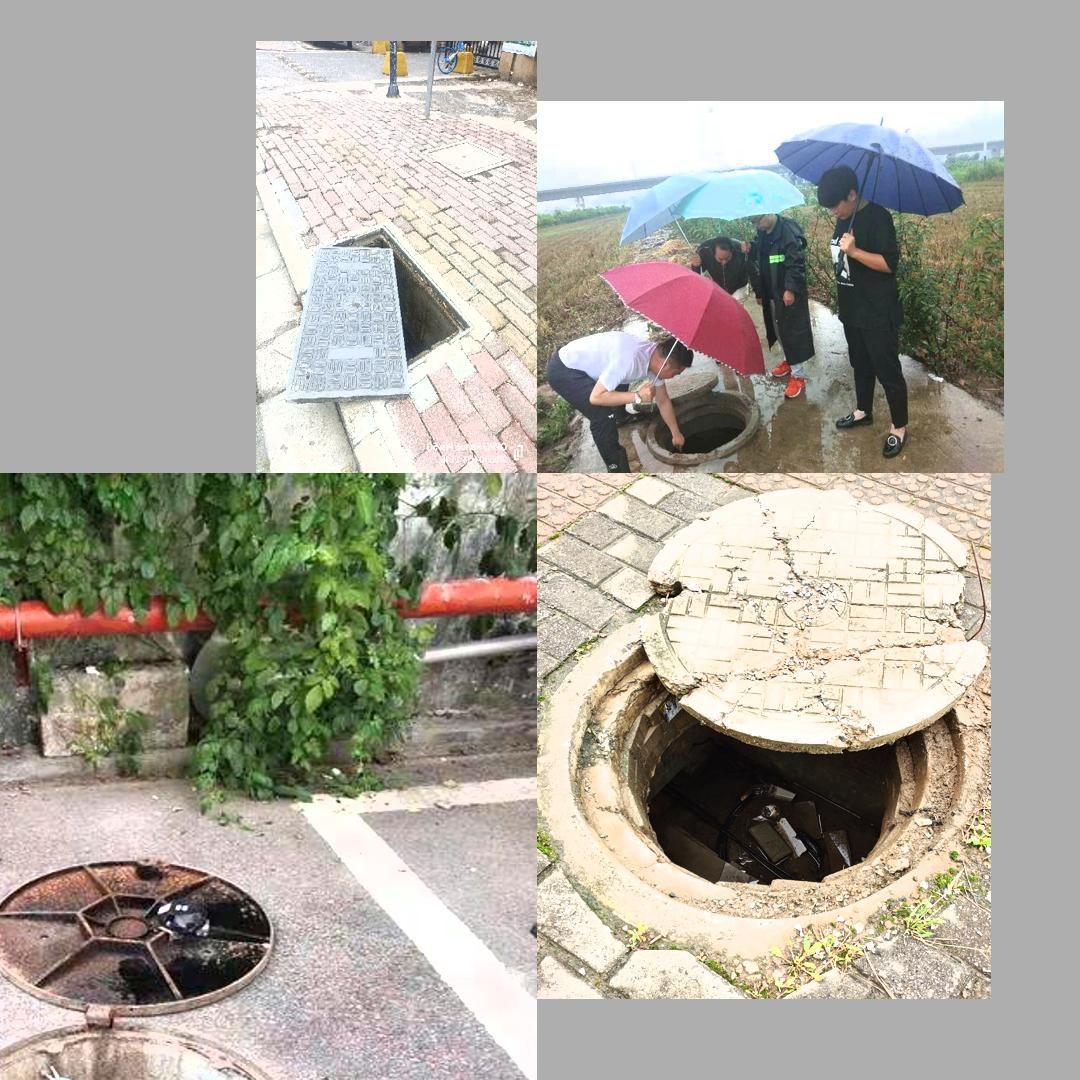good: (422, 139, 514, 179)
uncovered: (543, 488, 985, 922), (0, 832, 360, 1080), (285, 217, 490, 404), (623, 358, 770, 464)
